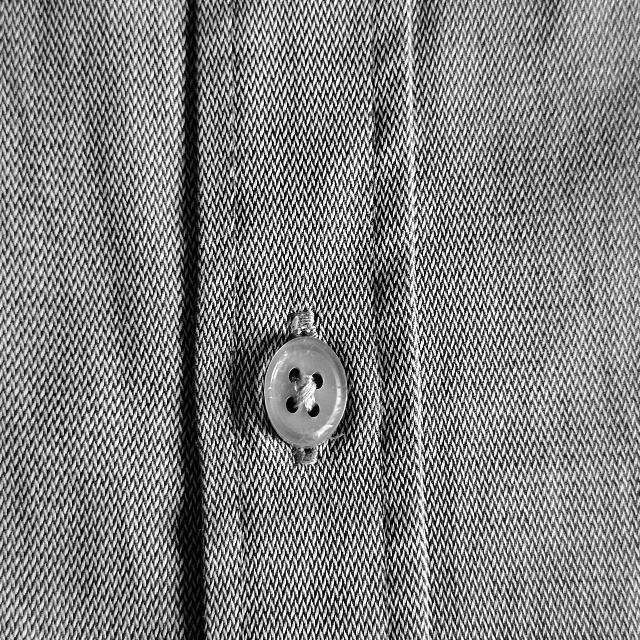Button_hike: (250, 282, 364, 493)
